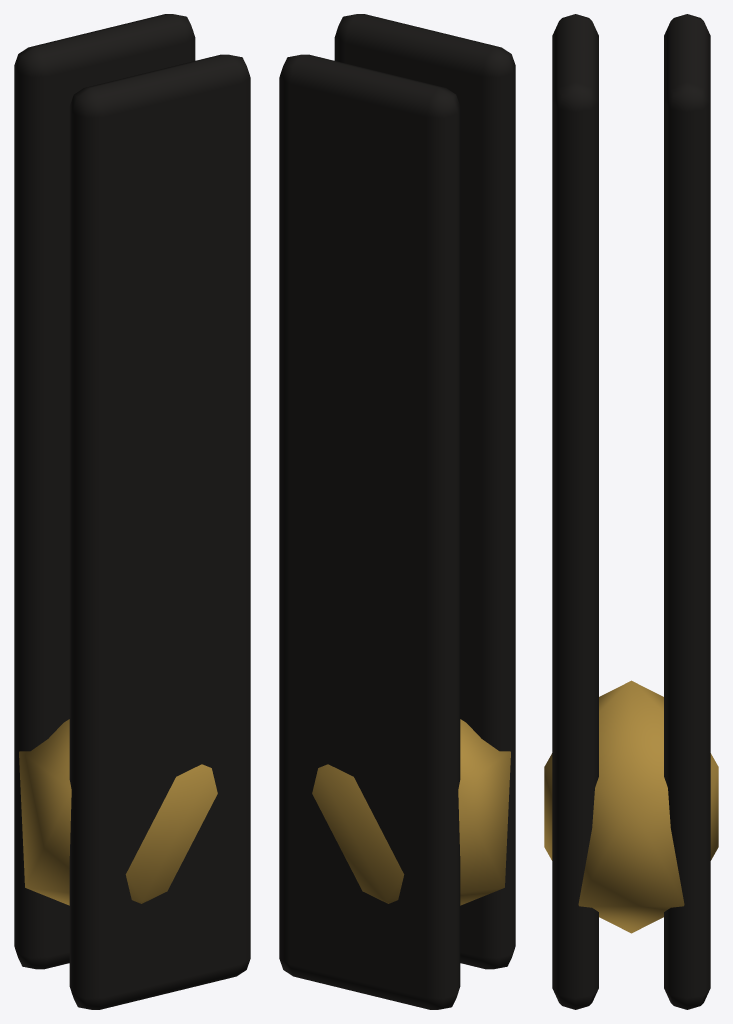
The model's file is park_clock_hour.glb.
The picture shows the model from 3 angles, left to right: view 1: azimuth 30°, elevation 25°; view 2: azimuth 150°, elevation 25°; view 3: azimuth 270°, elevation 25°; orthographic projection.
Visible parts, largest first — view 1: park_clock_hour_main; view 2: park_clock_hour_main; view 3: park_clock_hour_main.
Boxes of the visible parts, x1,y1,x2,y2 form: park_clock_hour_main: (14, 14, 250, 1009); park_clock_hour_main: (279, 14, 515, 1009); park_clock_hour_main: (544, 14, 718, 1009).
Bounding box in the file's own units: 0.0537 × 0.22 × 0.0374.
